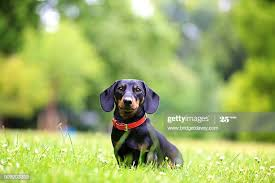dog_sitting: (98, 75, 185, 172)
